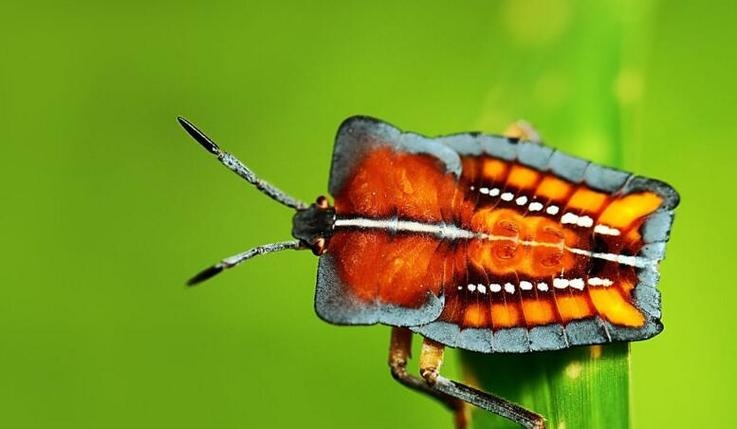Stink_Bug: (235, 123, 662, 354)
